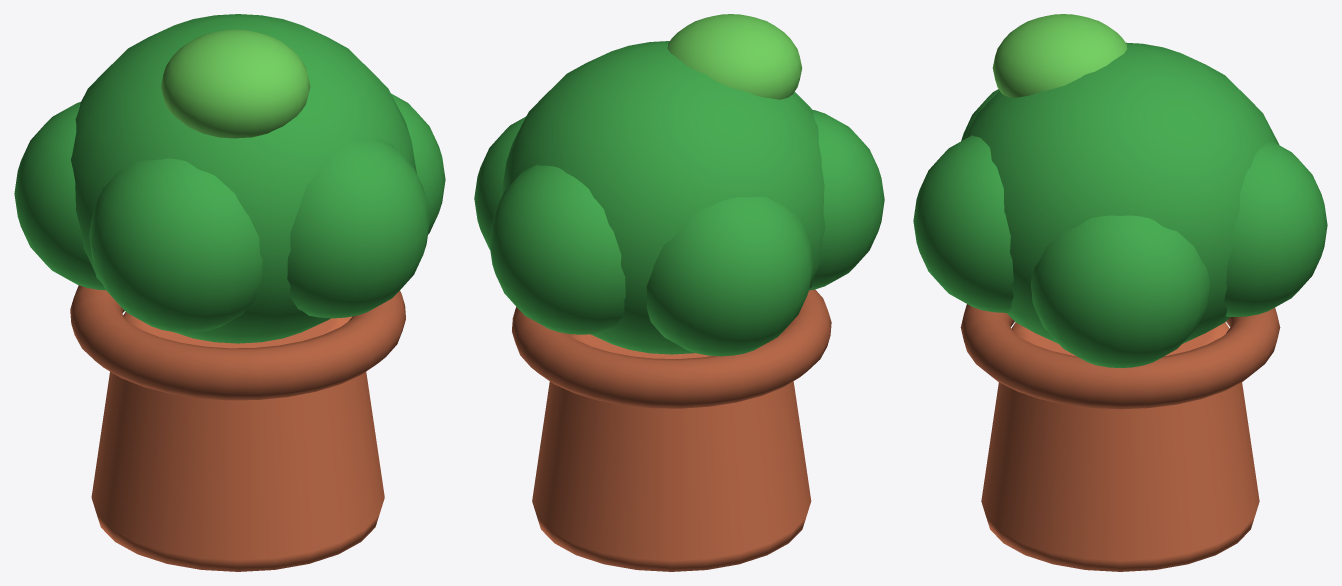
Rendered from planter.glb.
The picture shows the model from 3 angles, left to right: view 1: azimuth 30°, elevation 25°; view 2: azimuth 150°, elevation 25°; view 3: azimuth 270°, elevation 25°; orthographic projection. The views are drawn at different scales.
Visible parts, largest first — view 1: planter; view 2: planter; view 3: planter.
Part boxes in pixels (left/top/right/bottom): planter: left=14, top=14, right=445, bottom=571; planter: left=474, top=14, right=884, bottom=571; planter: left=913, top=14, right=1327, bottom=571.
Bounding box in the file's own units: 0.5675 × 0.75 × 0.5834.
